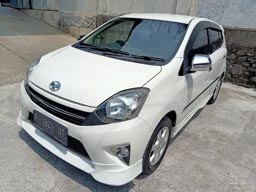plat: (28, 110, 66, 145)
